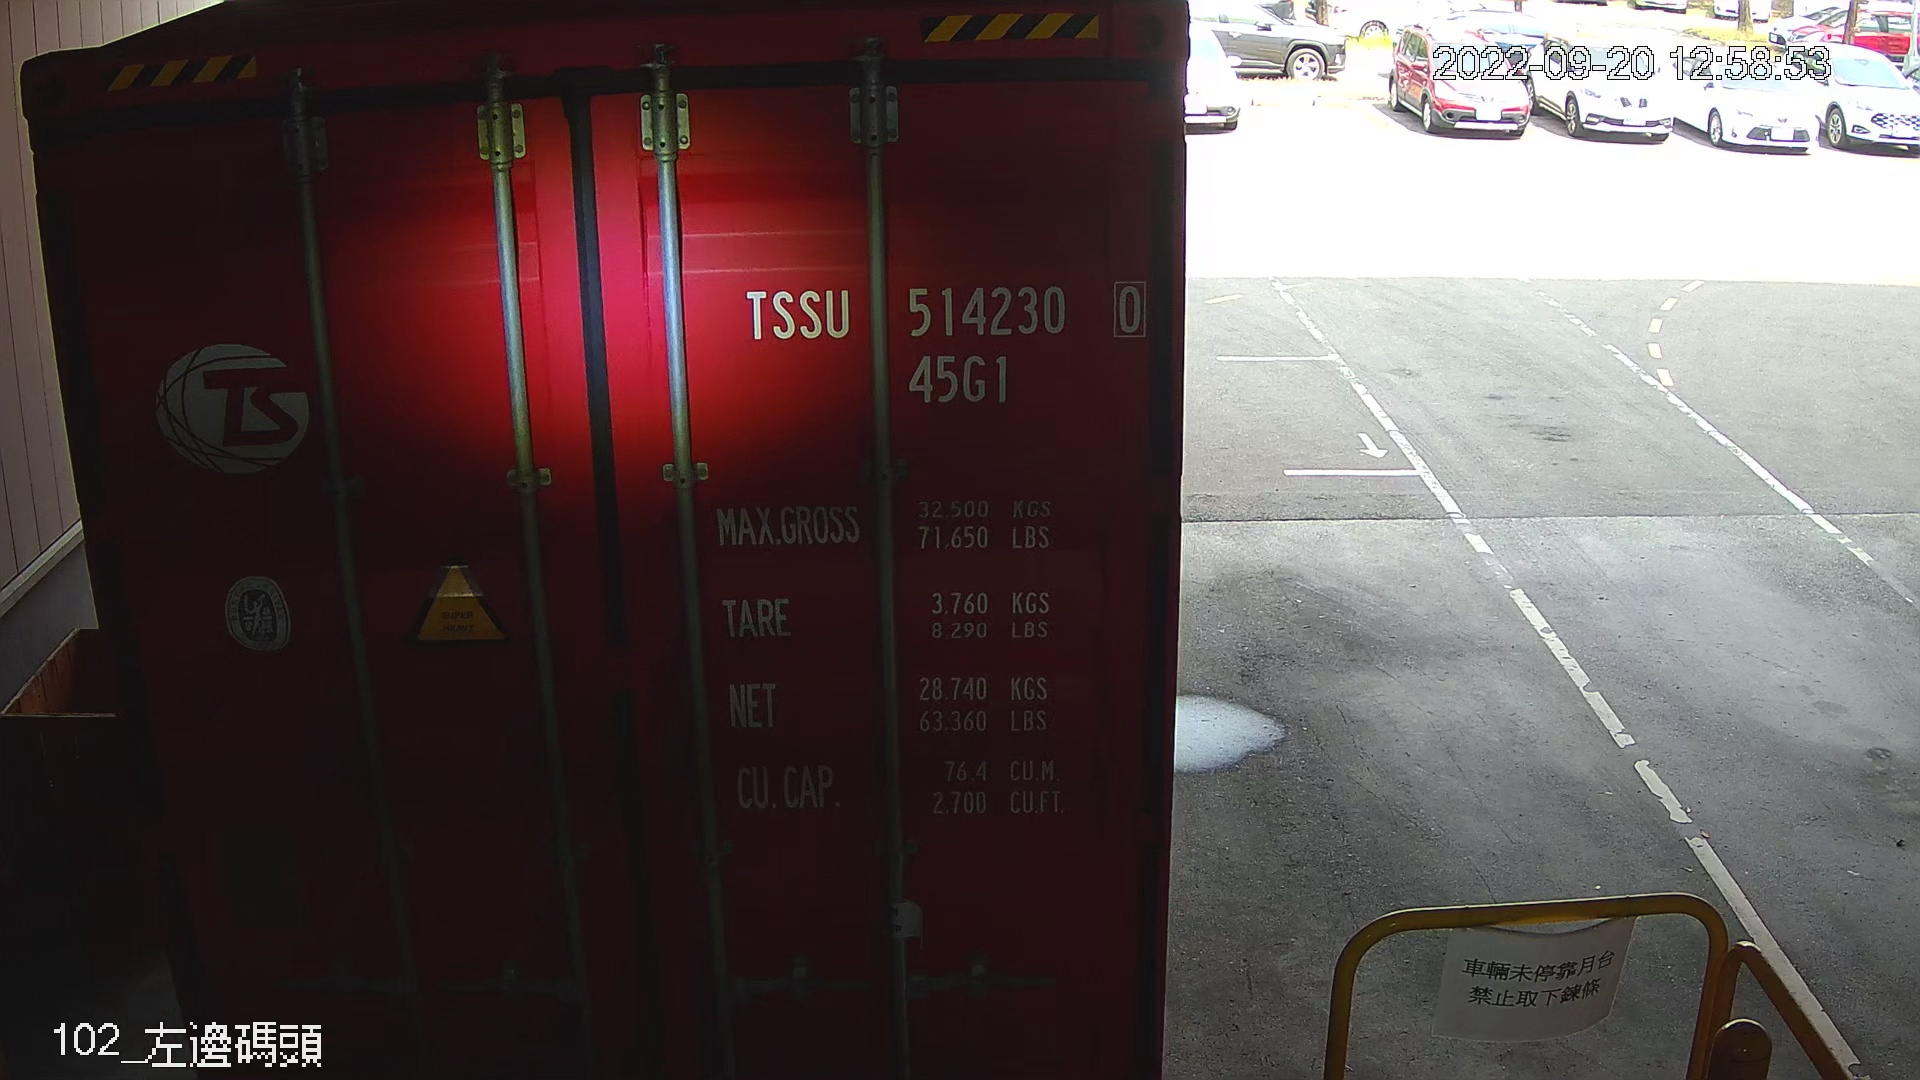container: (727, 272, 1163, 407)
